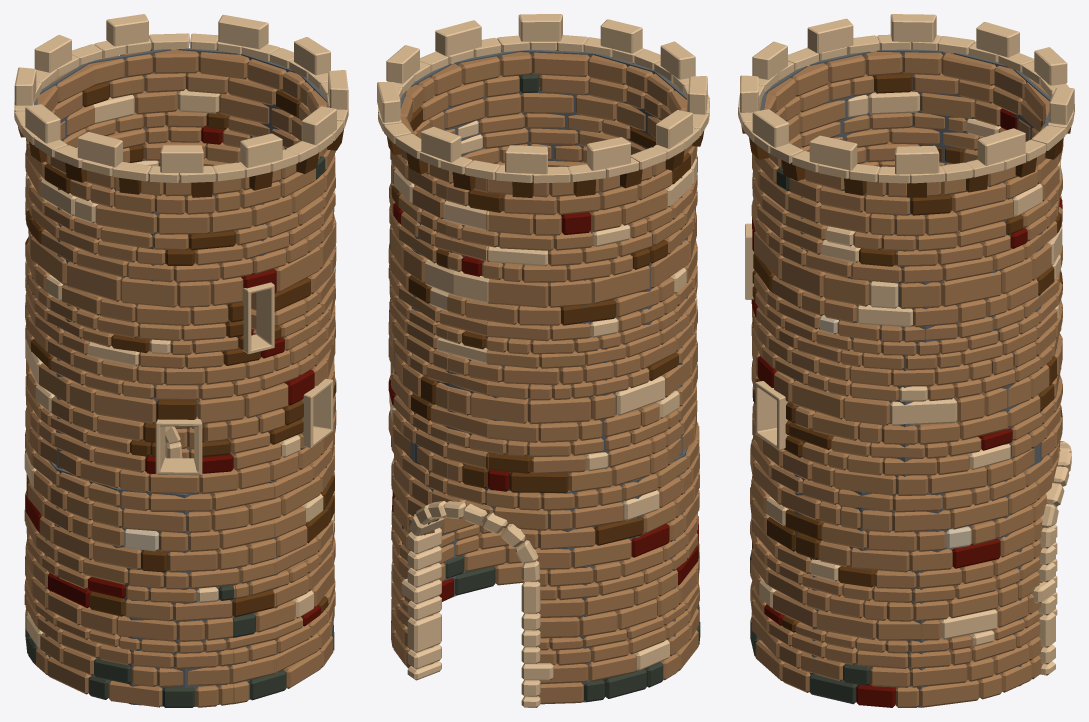
The model's file is region-0 - Copy.glb.
3 renders of one model, left to right at view 1: azimuth 30°, elevation 25°; view 2: azimuth 150°, elevation 25°; view 3: azimuth 270°, elevation 25°, orthographic.
Parts seen in each view (by area): view 1: main-wall.285, main-wall.086, main-wall.112, top-section-2.002, top-section-1.001, upper-slit-frame, left-slit-frame, right-slit-frame, grout-wall.004; view 2: main-wall.086, main-wall.285, main-wall.112, top-section-2.002, top-section-1.001, grout-wall.004, grout-wall.001; view 3: main-wall.285, main-wall.086, main-wall.112, top-section-2.002, top-section-1.001, grout-wall.004, right-slit-frame, grout-wall.001, upper-slit-frame.
Boxes of the visible parts, x1,y1,x2,y2 form: main-wall.285: [24, 426, 335, 707]; main-wall.086: [25, 158, 336, 494]; main-wall.112: [25, 50, 335, 282]; top-section-2.002: [14, 14, 348, 172]; top-section-1.001: [14, 33, 348, 182]; upper-slit-frame: [242, 282, 274, 354]; left-slit-frame: [155, 417, 202, 475]; right-slit-frame: [301, 378, 333, 448]; grout-wall.004: [34, 48, 327, 281]; main-wall.086: [388, 161, 697, 492]; main-wall.285: [391, 422, 700, 707]; main-wall.112: [389, 52, 697, 282]; top-section-2.002: [377, 14, 707, 174]; top-section-1.001: [378, 35, 709, 183]; grout-wall.004: [400, 49, 688, 278]; grout-wall.001: [394, 160, 687, 489]; main-wall.285: [750, 436, 1071, 707]; main-wall.086: [751, 161, 1062, 495]; main-wall.112: [751, 52, 1063, 283]; top-section-2.002: [740, 14, 1074, 174]; top-section-1.001: [738, 34, 1074, 183]; grout-wall.004: [760, 49, 1051, 283]; right-slit-frame: [755, 381, 788, 450]; grout-wall.001: [793, 248, 1056, 494]; upper-slit-frame: [745, 223, 754, 299].
Size of what is drawn, in the model's own units: 2.15 by 3.97 by 2.16.
